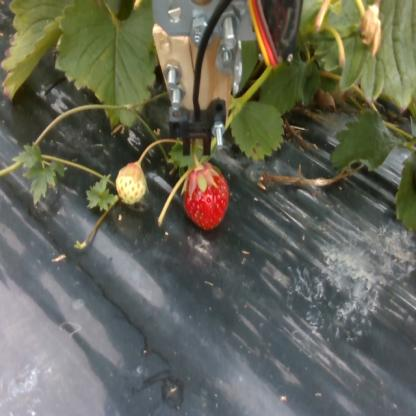ripe: (184, 160, 230, 235)
unripe: (112, 159, 147, 210)
